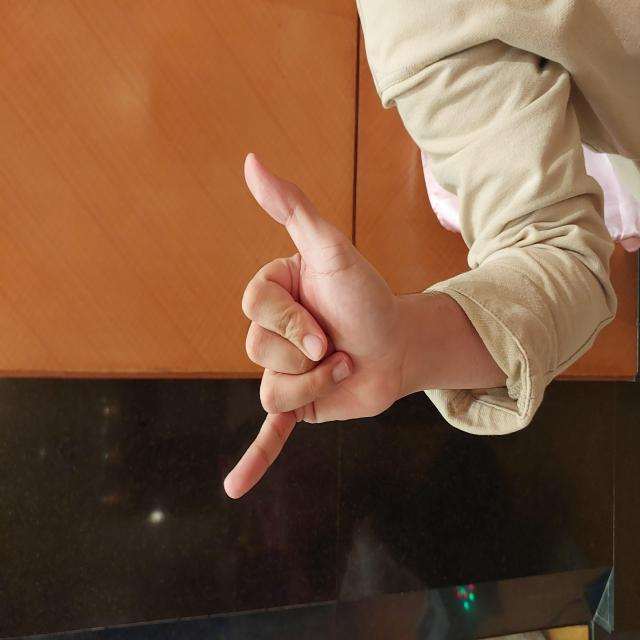Y: (138, 221, 490, 414)
